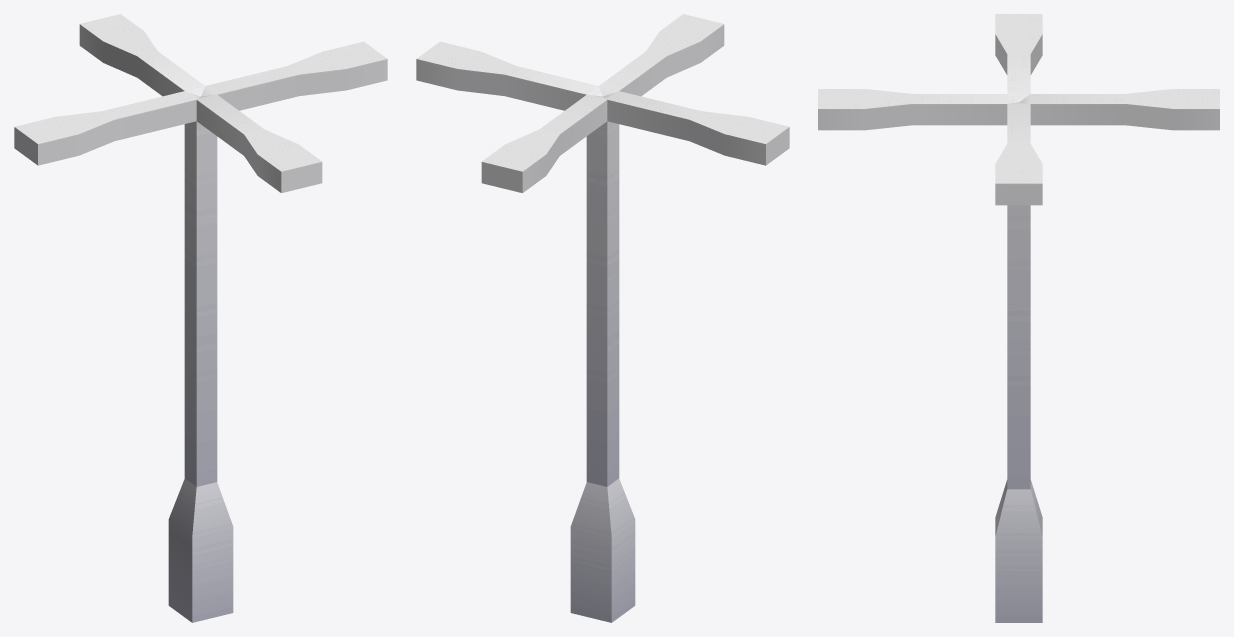
Rendered from light-square-cross.glb.
3 views of the same model, side by side, from view 1: azimuth 30°, elevation 25°; view 2: azimuth 150°, elevation 25°; view 3: azimuth 270°, elevation 25° (orthographic).
Visible parts, largest first — view 1: light-square-cross; view 2: light-square-cross; view 3: light-square-cross.
Part boxes in pixels (x1,y1,x2,y2): light-square-cross: (14, 14, 387, 622); light-square-cross: (416, 14, 789, 622); light-square-cross: (818, 14, 1219, 622).
Size of the model in its own units: 0.425 by 0.6 by 0.425.
Materials: 1 (1 with a texture image).
